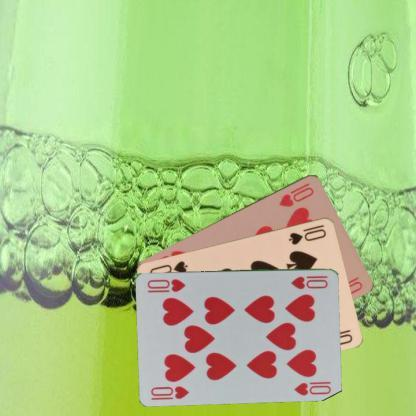10h: (276, 180, 316, 209), (288, 272, 330, 290), (148, 383, 190, 400)
10s: (286, 221, 328, 246)
